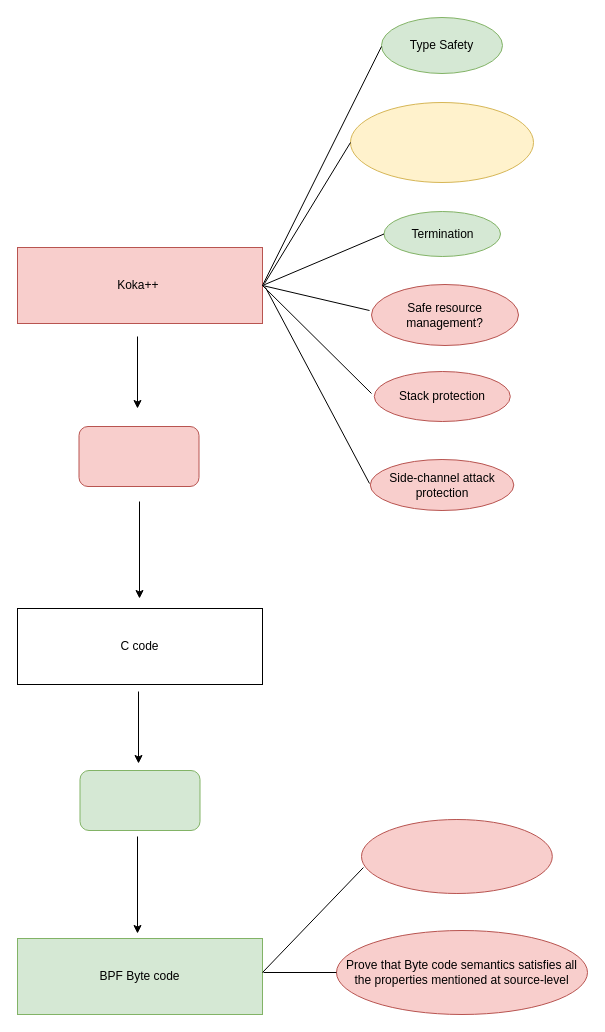
Some shapes in this 605 by 1032 pixel diagram are drawn without their labels. The centre of each missing label's shape, as x and y in pixels:
"Advanced Safety: (1) No division by zero (2) No out-of-bound memory accesses" goes at pixel 442 142.
"C compiler" goes at pixel 139 800.
"Formalize the syntax and semantics of Byte code in Coq" goes at pixel 456 856.
"Koka++ compiler" goes at pixel 138 456.
